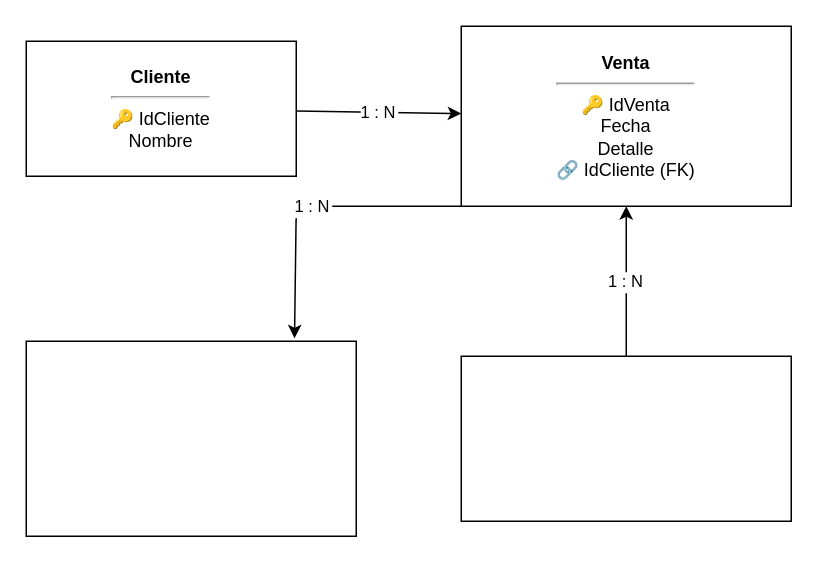
This 818x563 diagram has some shape labels left out. The centre of each missing label's shape, as x and y in pixels:
Contiene 🔗 IdVenta (PK,FK) 🔗 IdProducto (PK,FK) Cantidad PrecioProducto: [190,438]
Producto 🔑 IdProducto Nombre Precio: [625,438]
